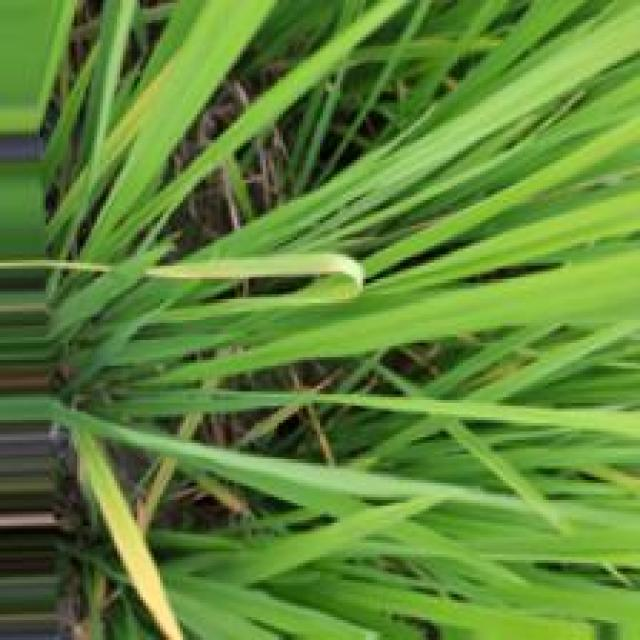HealthyLeaf: (149, 249, 640, 389), (317, 485, 637, 567)
